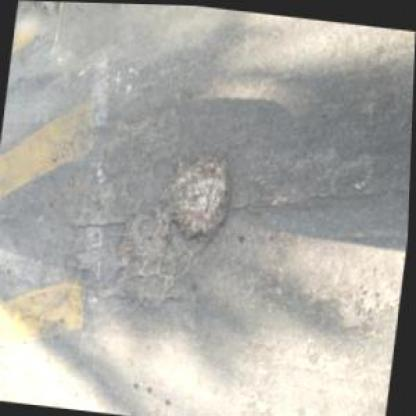pothole: (160, 141, 238, 244), (115, 202, 173, 269)
